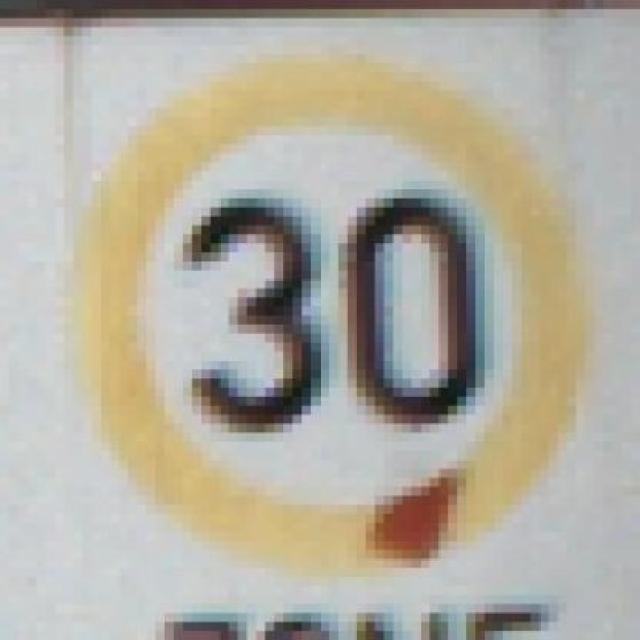Speed Limit 30 KMPh: (27, 54, 613, 577)
